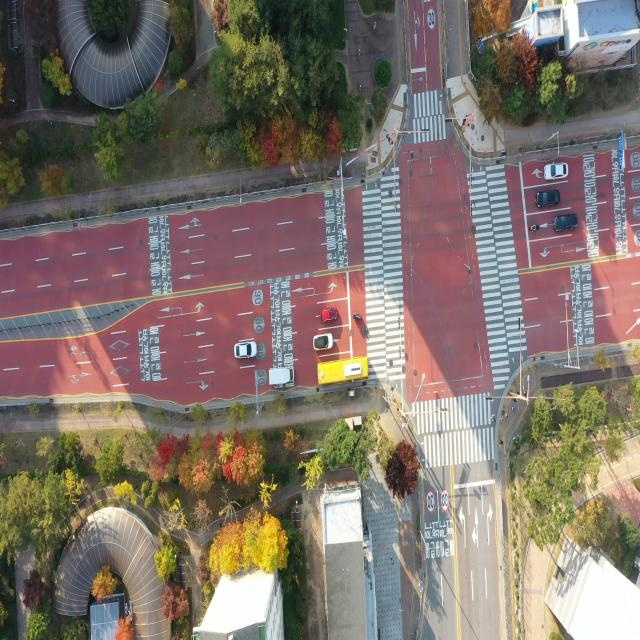car: (235, 340, 258, 360), (535, 188, 559, 206), (554, 213, 578, 231), (545, 163, 570, 180), (320, 306, 338, 324), (313, 334, 332, 351)
large_bus: (318, 357, 368, 385)
small_truck: (267, 364, 295, 386)
